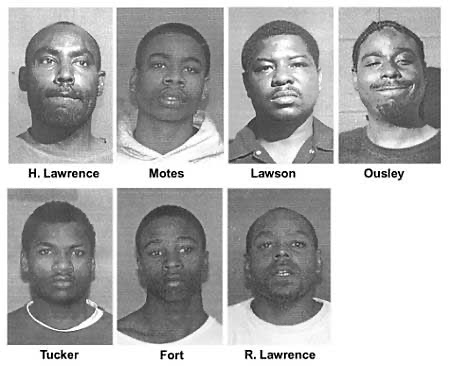Face: (349, 31, 428, 117), (25, 36, 98, 127), (246, 227, 322, 306), (139, 37, 202, 129), (245, 45, 316, 124), (132, 221, 204, 298), (29, 227, 95, 304)
